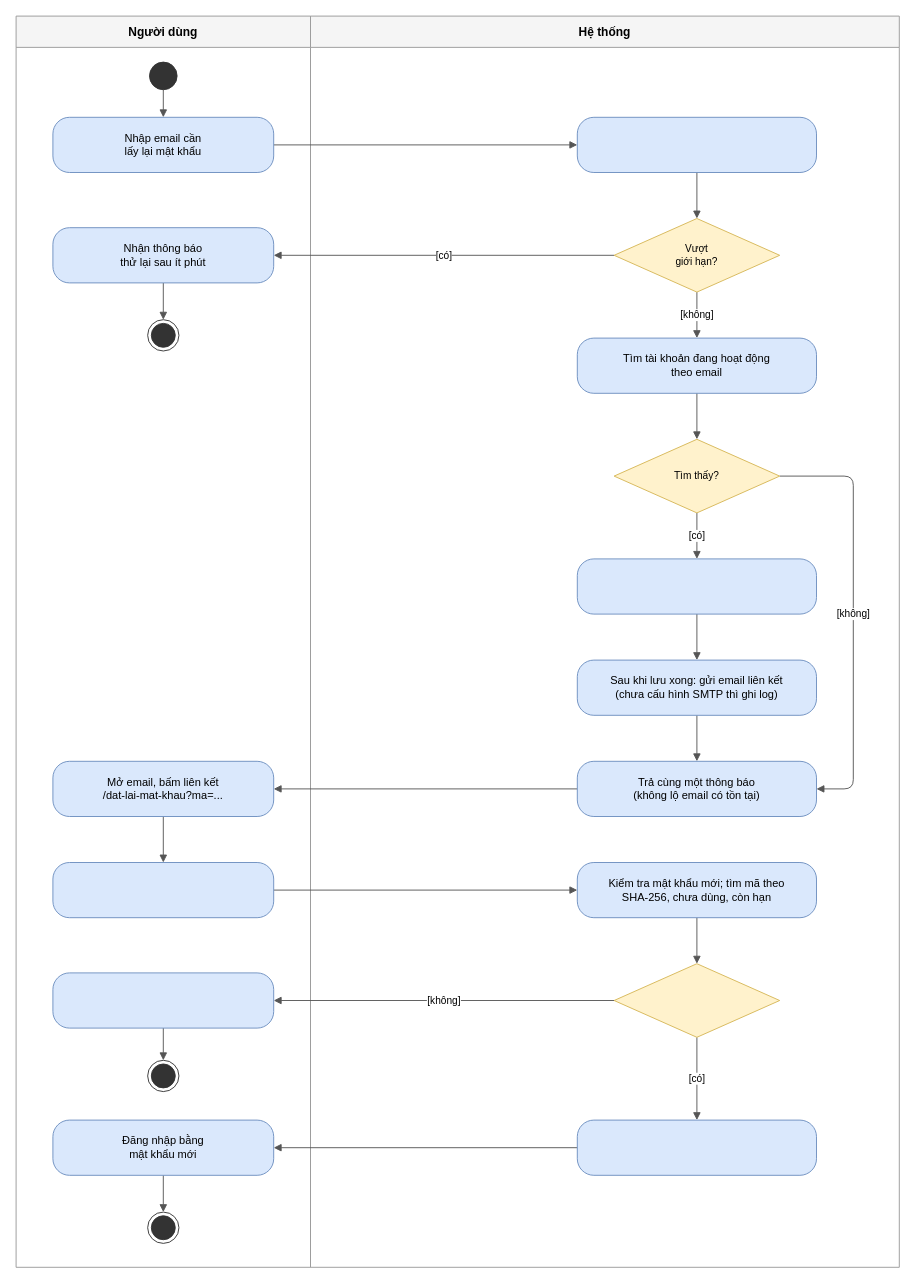
Image size: 915x1283. Some labels were removed from this diagram. Each missing label, with the centre of its shape:
"Kiểm tra giới hạn: 1 lần / 60 giây mỗi email, 10 lần / 15 phút mỗi IP" belongs at [696,144].
"Lưu mật khẩu mới (BCrypt), đánh dấu mọi mã đã dùng, thu hồi token cũ" belongs at [696,1147].
"Mã hợp lệ?" belongs at [696,1000].
"Nhận thông báo liên kết không hợp lệ hoặc hết hạn" belongs at [163,1000].
"Nhập mật khẩu mới" belongs at [163,890].
"Tạo mã ngẫu nhiên 256 bit, lưu SHA-256 của mã, hạn 15 phút" belongs at [696,586].
